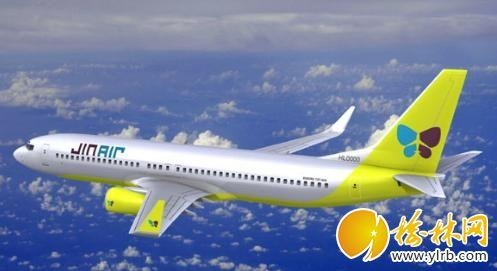airplane: (11, 66, 469, 244)
